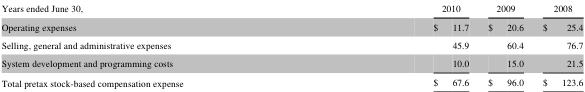table: (0, 0, 582, 88)
table column: (0, 0, 307, 88), (307, 0, 477, 88), (477, 0, 532, 88), (532, 0, 582, 88)
table column header: (0, 0, 582, 16)
table row: (0, 16, 582, 35), (0, 35, 582, 53), (0, 53, 582, 71), (0, 71, 582, 88), (0, 0, 582, 16)
